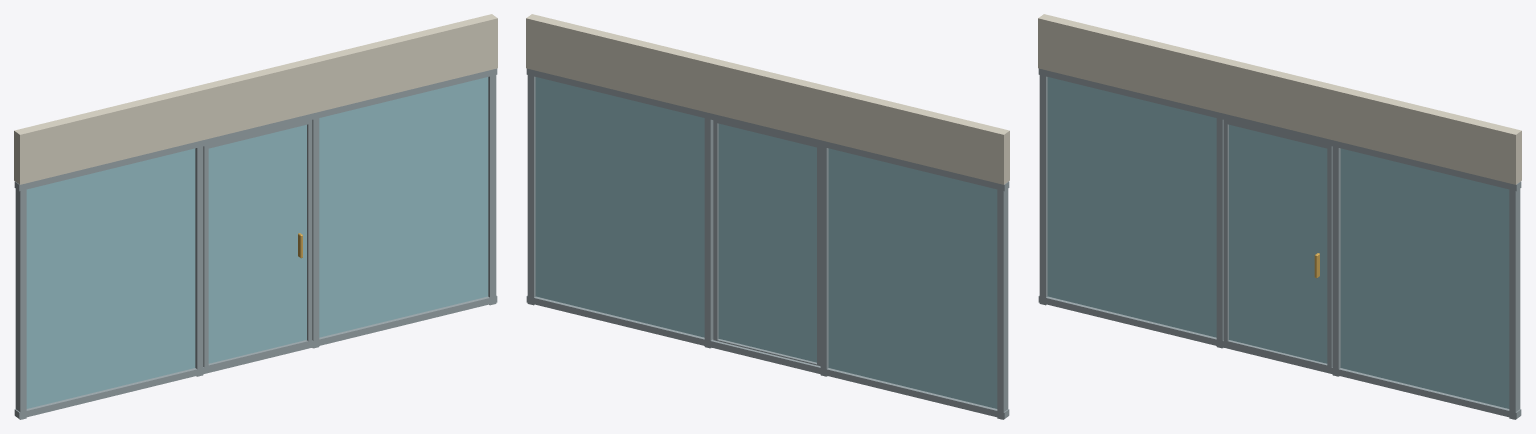
Rendered from Casa_Modular_Edificio_Corregido.fbx.
3 renders of one model, left to right at view 1: azimuth 30°, elevation 25°; view 2: azimuth 150°, elevation 25°; view 3: azimuth 330°, elevation 25°, orthographic.
Visible parts, largest first — view 1: Escaparate_Fijo.006, Comercio_Puerta_PIVOTE.006; view 2: Escaparate_Fijo.006, Comercio_Puerta_PIVOTE.006; view 3: Escaparate_Fijo.006, Comercio_Puerta_PIVOTE.006.
Boxes of the visible parts, x1,y1,x2,y2 form: Escaparate_Fijo.006: [14, 14, 497, 419]; Comercio_Puerta_PIVOTE.006: [203, 119, 312, 370]; Escaparate_Fijo.006: [526, 14, 1009, 419]; Comercio_Puerta_PIVOTE.006: [713, 120, 820, 366]; Escaparate_Fijo.006: [1038, 14, 1521, 419]; Comercio_Puerta_PIVOTE.006: [1223, 119, 1332, 370].
Size of the model in its own units: 1400 by 800 by 41.
